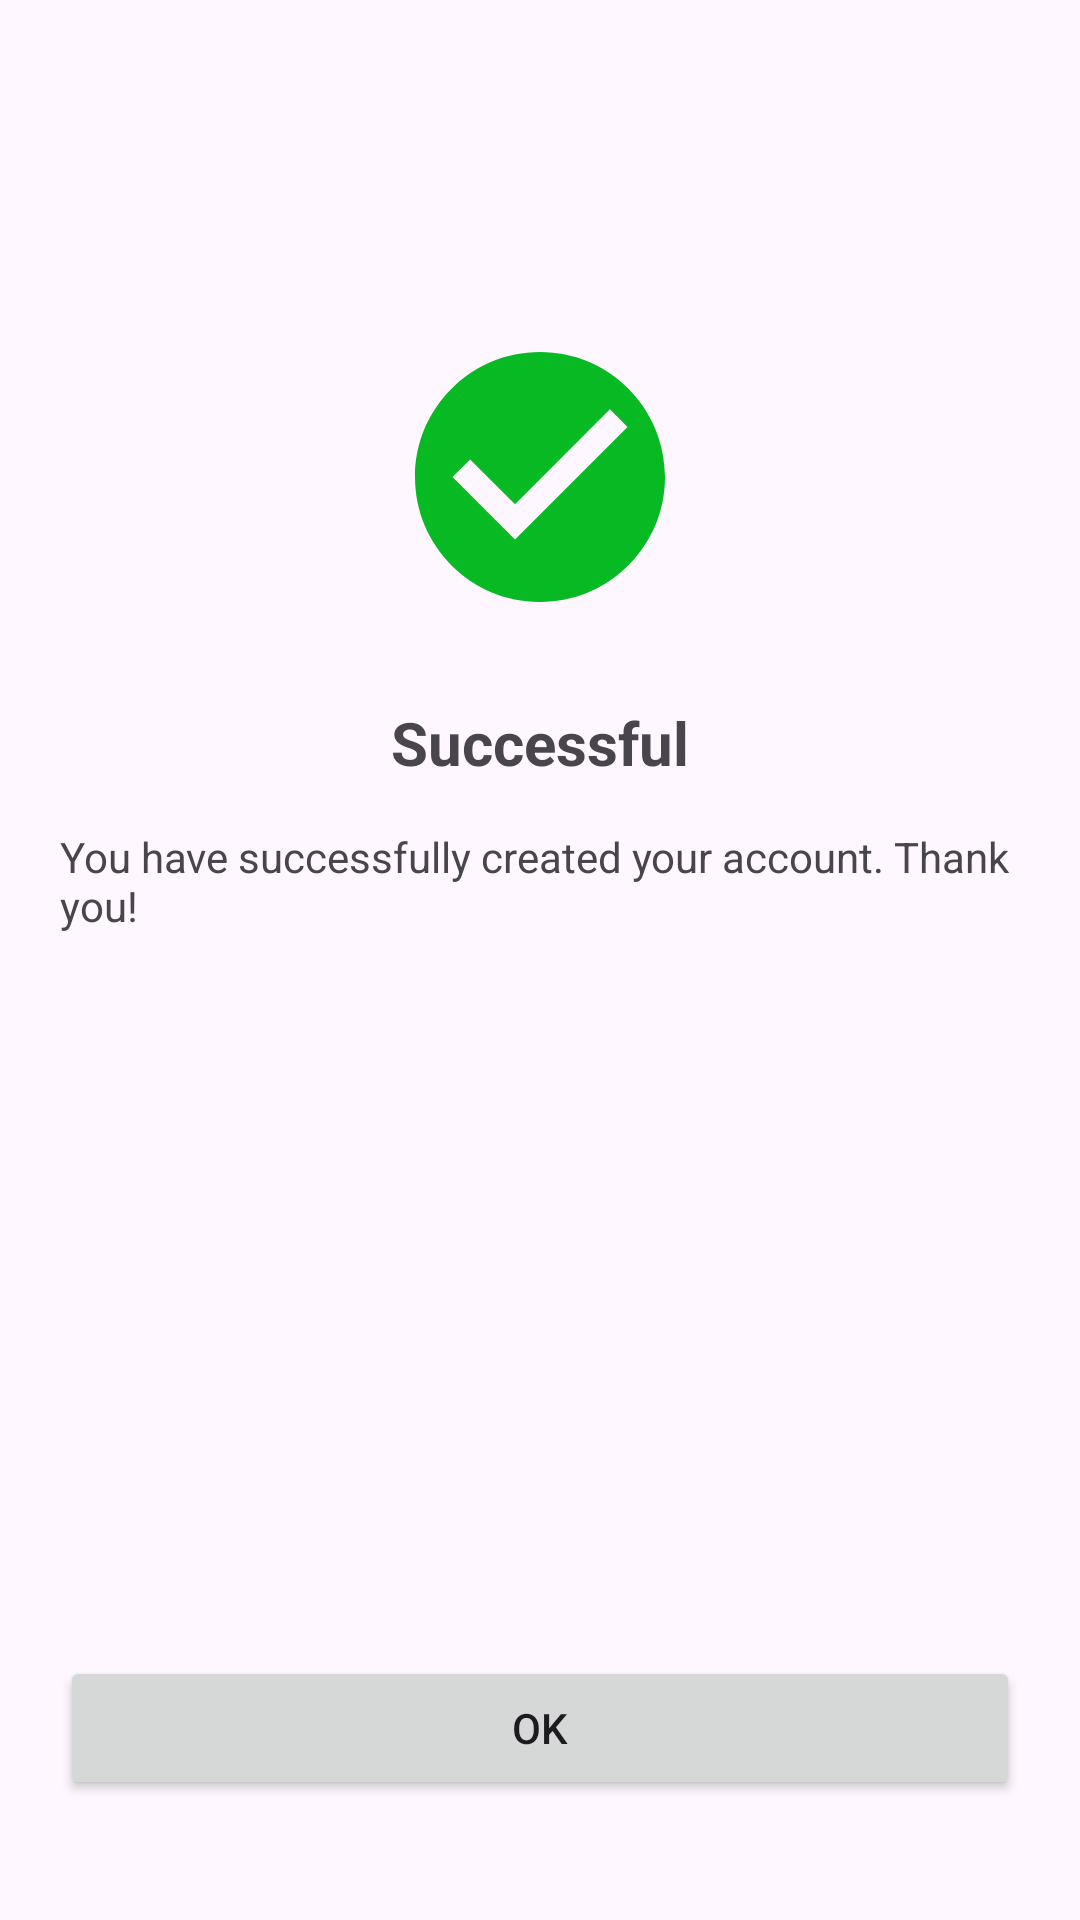

Icons on this 1080w x 1920h Android screen, each with its box as (x1, y1, x2, y2):
check circle: (415, 352, 665, 602)
